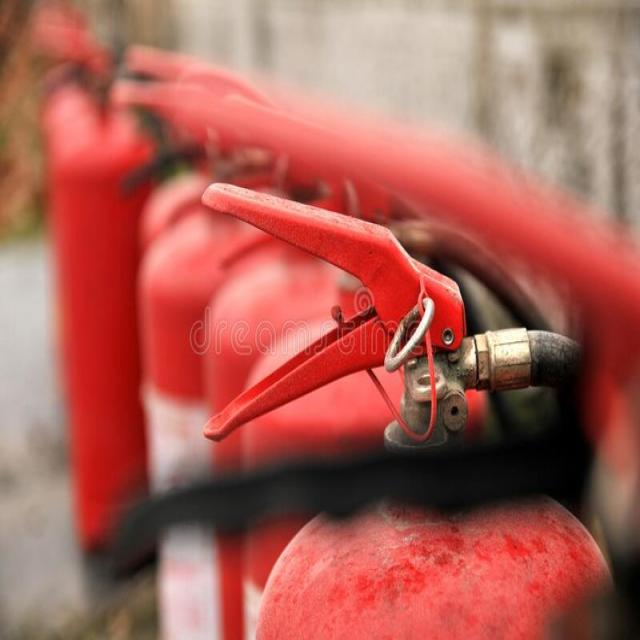fire_extinguisher: (195, 171, 639, 639)
